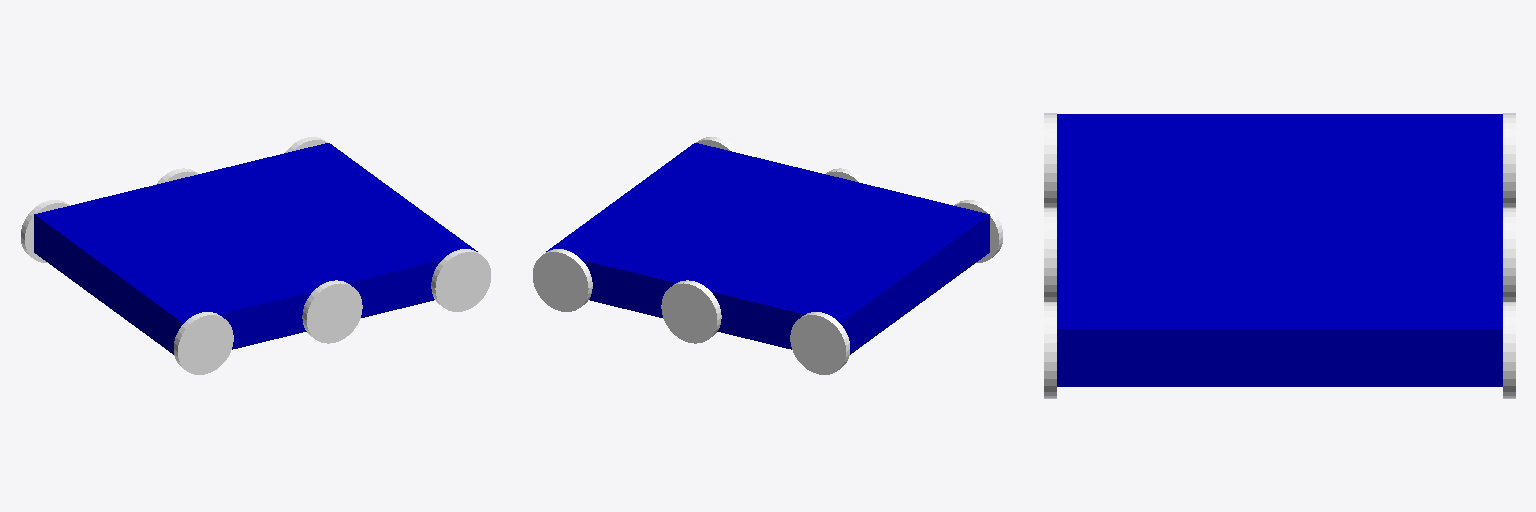
The robot description file, URDF, robot "robot_with_arm":
<?xml version="1.0"?>
<robot name="robot_with_arm">

  <material name="blue">
    <color rgba="0 0 0.8 1"/>
  </material>

  <material name="white">
    <color rgba="1 1 1 1"/>
  </material>

  <link name="base_link">
    <visual>
      <geometry>
        <box size="0.8 0.7 0.1"/>
      </geometry>
      <material name="blue"/>
    </visual>
  </link>

  <link name="front_left_wheel">
    <visual>
      <geometry>
        <cylinder length="0.02" radius="0.0762"/>
      </geometry>
      <origin rpy="0 1.57075 1.57075" xyz="0 0 0"/>
      <material name="white"/>
    </visual>
  </link>

  <joint name="base_to_front_left_wheel" type="continuous">
    <parent link="base_link"/>
    <child link="front_left_wheel"/>
    <origin xyz=".35 .36 -.01"/>
    <axis xyz="0 1 0"/>
  </joint>

  <link name="center_left_wheel">
    <visual>
      <geometry>
        <cylinder length="0.02" radius="0.0762"/>
      </geometry>
      <origin rpy="0 1.57075 1.57075" xyz="0 0 0"/>
      <material name="white"/>
    </visual>
  </link>

  <joint name="base_to_center_left_wheel" type="continuous">
    <parent link="base_link"/>
    <child link="center_left_wheel"/>
    <origin xyz="0 .36 -.01"/>
    <axis xyz="0 1 0"/>
  </joint>

  <link name="rear_left_wheel">
    <visual>
      <geometry>
        <cylinder length="0.02" radius="0.0762"/>
      </geometry>
      <origin rpy="0 1.57075 1.57075" xyz="0 0 0"/>
      <material name="white"/>
    </visual>
  </link>

  <joint name="base_to_rear_left_wheel" type="continuous">
    <parent link="base_link"/>
    <child link="rear_left_wheel"/>
    <origin xyz="-.35 .36 -.01"/>
    <axis xyz="0 1 0"/>
  </joint>

  <link name="front_right_wheel">
    <visual>
      <geometry>
        <cylinder length="0.02" radius="0.0762"/>
      </geometry>
      <origin rpy="0 1.57075 1.57075" xyz="0 0 0"/>
      <material name="white"/>
    </visual>
  </link>

  <joint name="base_to_front_right_wheel" type="continuous">
    <parent link="base_link"/>
    <child link="front_right_wheel"/>
    <origin xyz=".35 -.36 -.01"/>
    <axis xyz="0 1 0"/>
  </joint>

  <link name="center_right_wheel">
    <visual>
      <geometry>
        <cylinder length="0.02" radius="0.0762"/>
      </geometry>
      <origin rpy="0 1.57075 1.57075" xyz="0 0 0"/>
      <material name="white"/>
    </visual>
  </link>

  <joint name="base_to_center_right_wheel" type="continuous">
    <parent link="base_link"/>
    <child link="center_right_wheel"/>
    <origin xyz="0 -.36 -.01"/>
    <axis xyz="0 1 0"/>
  </joint>

  <link name="rear_right_wheel">
    <visual>
      <geometry>
        <cylinder length="0.02" radius="0.0762"/>
      </geometry>
      <origin rpy="0 1.57075 1.57075" xyz="0 0 0"/>
      <material name="white"/>
    </visual>
  </link>

  <joint name="base_to_rear_right_wheel" type="continuous">
    <parent link="base_link"/>
    <child link="rear_right_wheel"/>
    <origin xyz="-.35 -.36 -.01"/>
    <axis xyz="0 1 0"/>
  </joint>
</robot>

--- Render facts (derived) ---
Views: 3 orthographic renders of the robot side by side, from view 1: azimuth 30°, elevation 25°; view 2: azimuth 150°, elevation 25°; view 3: azimuth 270°, elevation 25°.
Robot: robot_with_arm — 7 links, 6 joints (6 continuous); root link base_link; default pose: every joint at zero.
Visible links, largest first — view 1: base_link, center_right_wheel, rear_right_wheel, front_right_wheel, rear_left_wheel; view 2: base_link, center_left_wheel, rear_left_wheel, front_left_wheel, rear_right_wheel; view 3: base_link, front_left_wheel, front_right_wheel, rear_left_wheel, rear_right_wheel, center_left_wheel, center_right_wheel.
Link boxes in pixels (x1=…): base_link: x1=34, y1=143, x2=477, y2=354; center_right_wheel: x1=302, y1=280, x2=362, y2=343; rear_right_wheel: x1=174, y1=312, x2=233, y2=374; front_right_wheel: x1=431, y1=249, x2=490, y2=311; rear_left_wheel: x1=21, y1=200, x2=69, y2=262; base_link: x1=546, y1=143, x2=989, y2=354; center_left_wheel: x1=661, y1=280, x2=721, y2=343; rear_left_wheel: x1=790, y1=312, x2=849, y2=374; front_left_wheel: x1=533, y1=249, x2=592, y2=311; rear_right_wheel: x1=954, y1=200, x2=1002, y2=262; base_link: x1=1057, y1=114, x2=1502, y2=386; front_left_wheel: x1=1503, y1=302, x2=1515, y2=398; front_right_wheel: x1=1044, y1=302, x2=1056, y2=398; rear_left_wheel: x1=1503, y1=113, x2=1515, y2=207; rear_right_wheel: x1=1044, y1=113, x2=1056, y2=207; center_left_wheel: x1=1503, y1=208, x2=1515, y2=301; center_right_wheel: x1=1044, y1=208, x2=1056, y2=301.
Bounding box of the posed robot: 0.8524 × 0.74 × 0.1524 m (x, y, z).
Geometry: primitives only (box / cylinder / sphere), no mesh files.